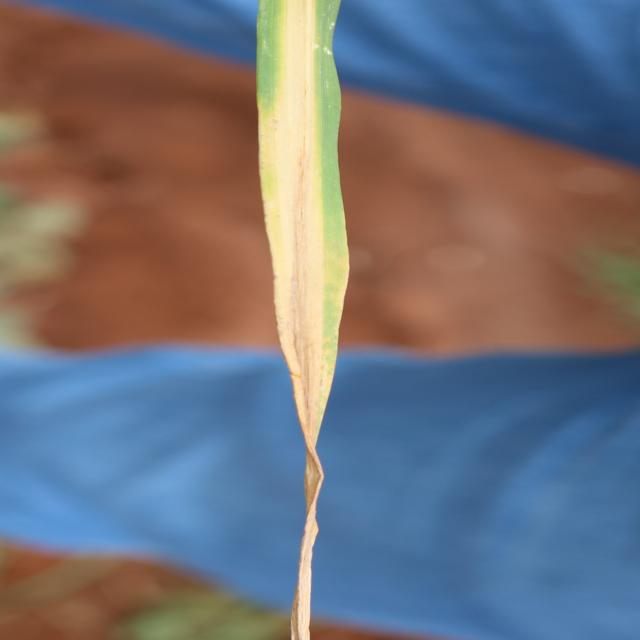Septoria: (254, 0, 351, 639)
